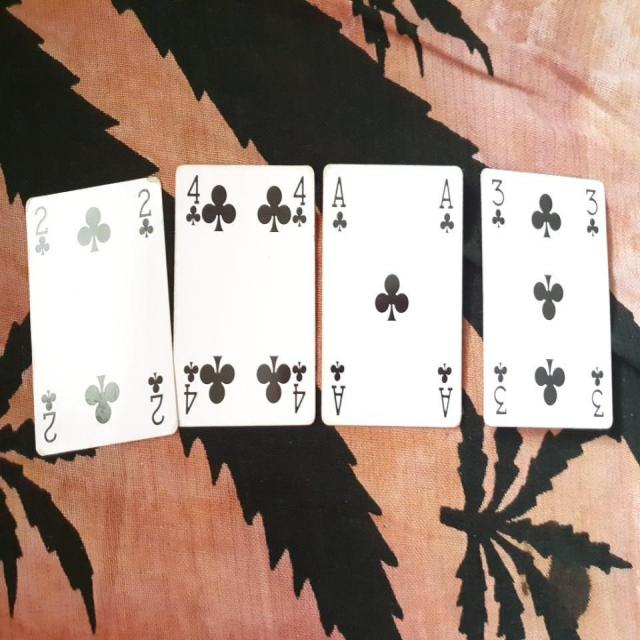2 Trefoils: (26, 176, 180, 458)
3 Trefoils: (479, 165, 615, 428)
4 Trefoils: (170, 162, 316, 426)
A Trefoils: (322, 161, 464, 428)
